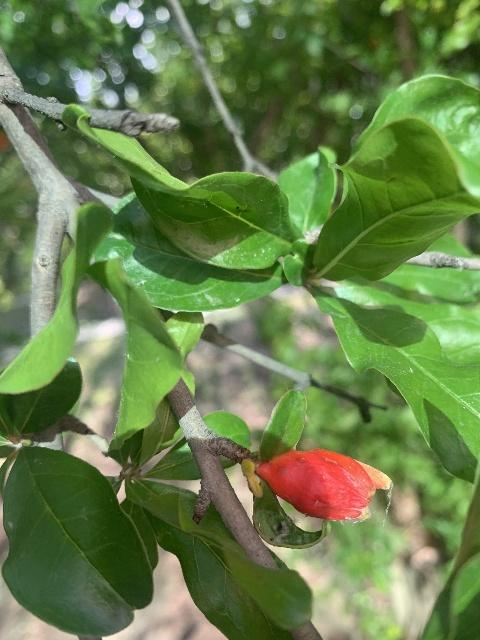flower: (256, 448, 391, 520)
